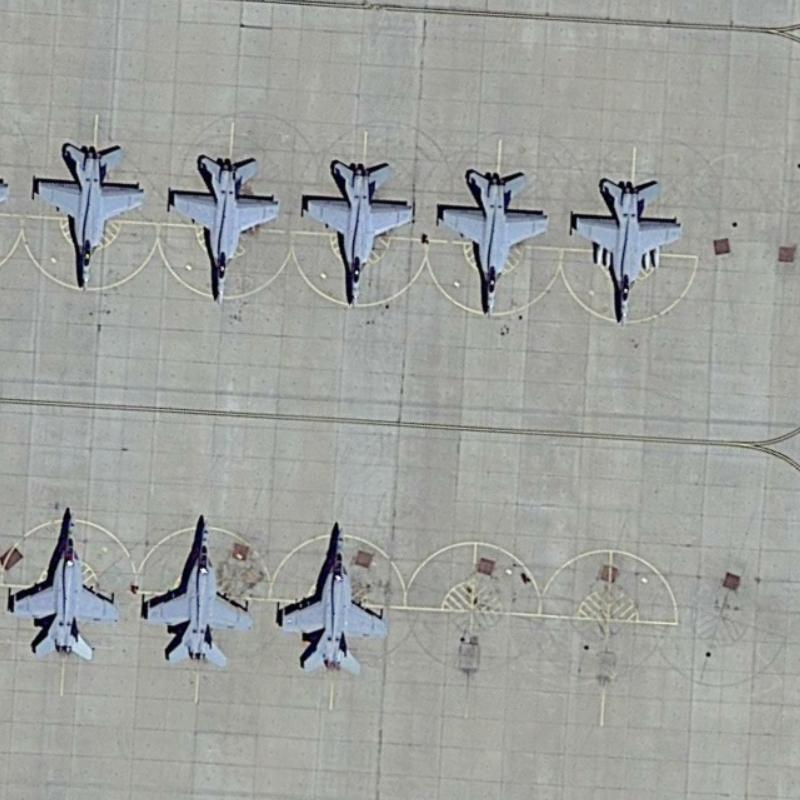A16: (134, 508, 257, 674), (269, 514, 390, 682), (297, 152, 419, 318), (164, 148, 285, 310), (568, 171, 688, 333), (431, 163, 553, 322), (3, 505, 124, 665), (28, 136, 147, 294)
